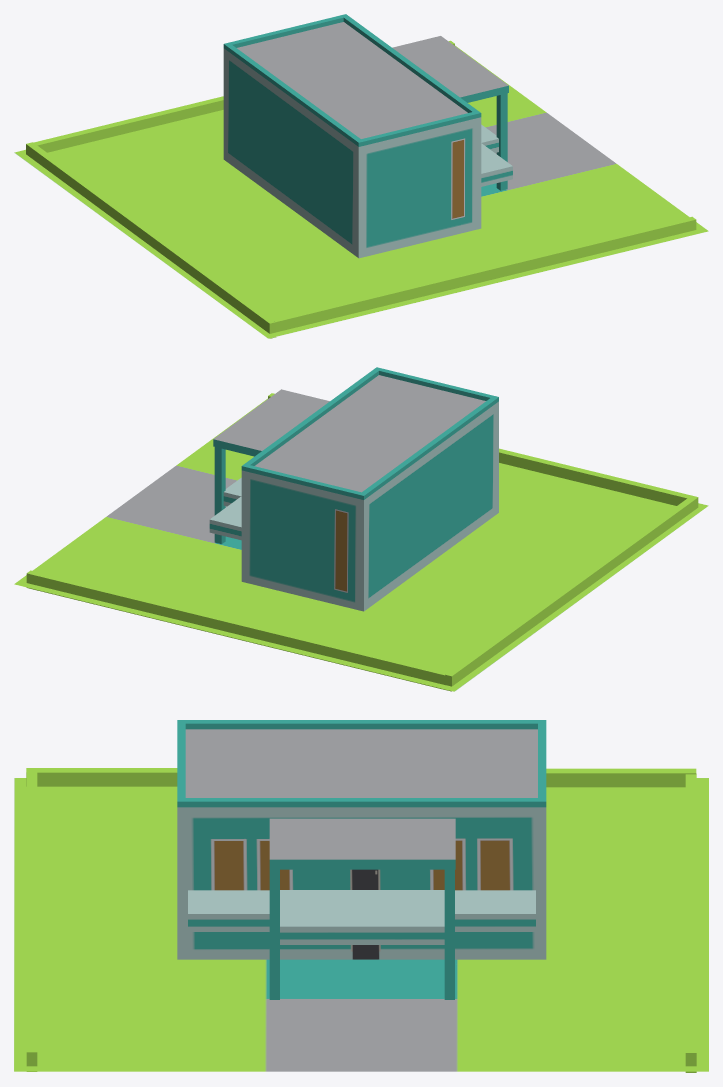
Rendered from 1maison_3.glb.
3 renders of one model, top to bottom at view 1: azimuth 30°, elevation 25°; view 2: azimuth 150°, elevation 25°; view 3: azimuth 270°, elevation 25°, orthographic. The views are drawn at different scales.
Parts seen in each view (by area): view 1: Plan; view 2: Plan; view 3: Plan.
Part boxes in pixels (box(x1,y1,x2,y2)): Plan: box(14, 14, 708, 338); Plan: box(14, 367, 708, 691); Plan: box(14, 720, 708, 1072).
Bounding box in the file's own units: 15 × 4.16 × 15.
1 material, 1 textured.
